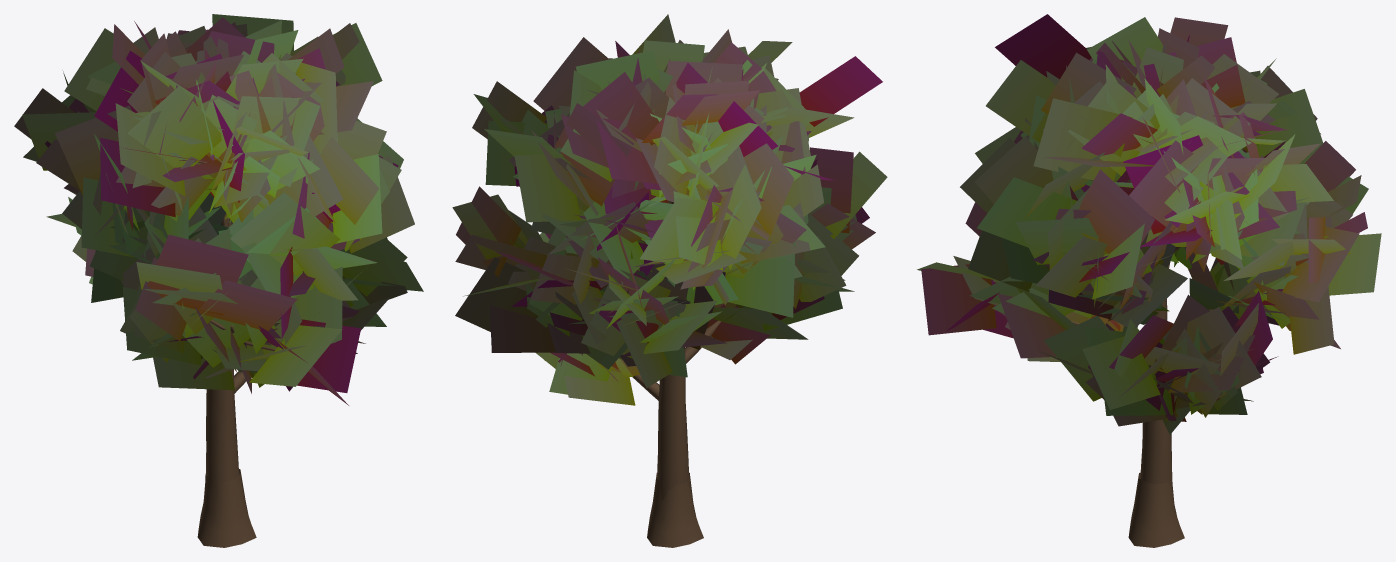
Rendered from tree_maple_1.glb.
3 views of the same model, side by side, from view 1: azimuth 30°, elevation 25°; view 2: azimuth 150°, elevation 25°; view 3: azimuth 270°, elevation 25° (orthographic). The views are drawn at different scales.
Parts seen in each view (by area): view 1: Leaves, Trunk; view 2: Leaves, Trunk; view 3: Leaves, Trunk.
Boxes of the visible parts, x1,y1,x2,y2 form: Leaves: [14, 14, 423, 405]; Trunk: [179, 160, 329, 547]; Leaves: [452, 14, 887, 405]; Trunk: [627, 200, 720, 547]; Leaves: [917, 14, 1381, 434]; Trunk: [1071, 247, 1266, 547].
Size of the model in its own units: 5.19 by 7.29 by 6.44.
